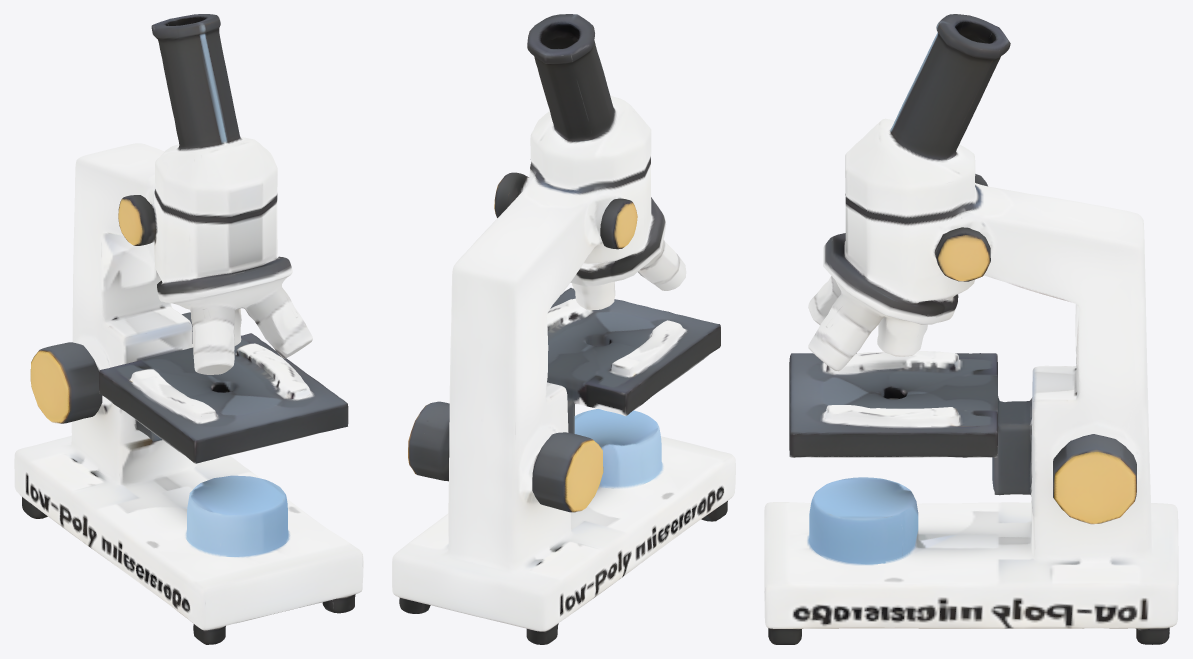
The model's file is base_basic_shaded.fbx.
3 renders of one model, left to right at view 1: azimuth 30°, elevation 25°; view 2: azimuth 150°, elevation 25°; view 3: azimuth 270°, elevation 25°, orthographic. The views are drawn at different scales.
Parts seen in each view (by area): view 1: model; view 2: model; view 3: model.
Part boxes in pixels (x1=…): model: x1=14, y1=14, x2=363, y2=644; model: x1=392, y1=14, x2=735, y2=644; model: x1=764, y1=14, x2=1178, y2=644.
Bounding box in the file's own units: 59.62 × 191 × 122.
